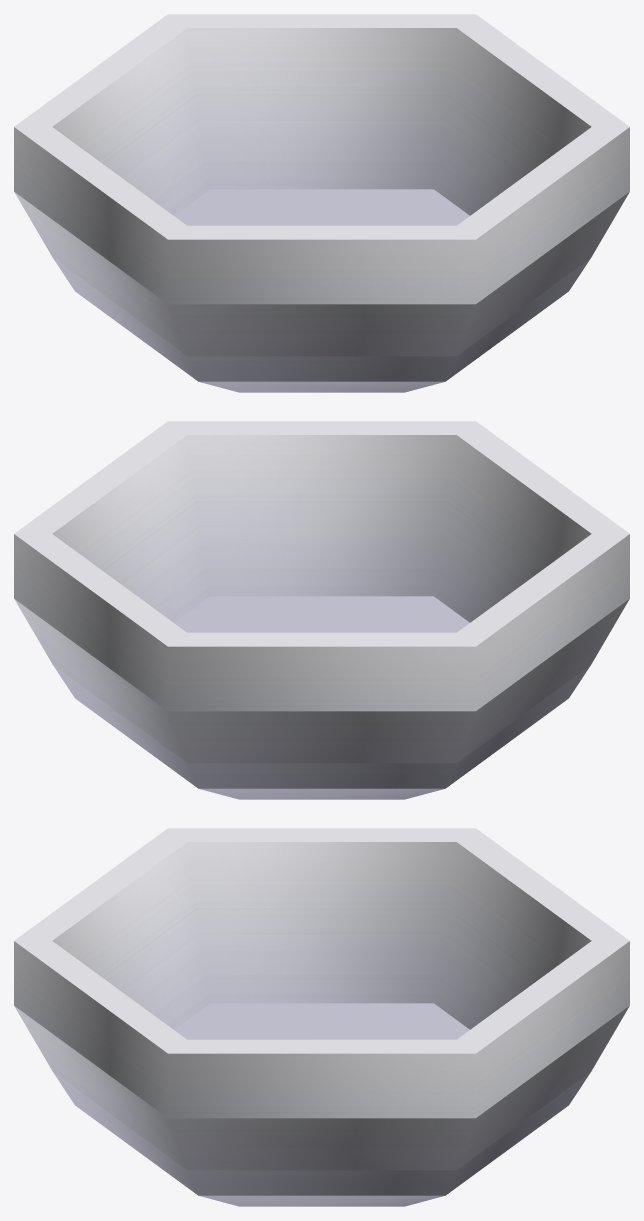
The model's file is bowl.glb.
3 views of the same model, one above another, from view 1: azimuth 30°, elevation 25°; view 2: azimuth 150°, elevation 25°; view 3: azimuth 270°, elevation 25° (orthographic).
Visible parts, largest first — view 1: bowl; view 2: bowl; view 3: bowl.
Boxes of the visible parts, x1=… form: bowl: x1=14, y1=14, x2=629, y2=392; bowl: x1=14, y1=421, x2=629, y2=799; bowl: x1=14, y1=828, x2=629, y2=1206.
Bounding box in the file's own units: 0.1299 × 0.0553 × 0.15.
Materials: 1 (1 with a texture image).
